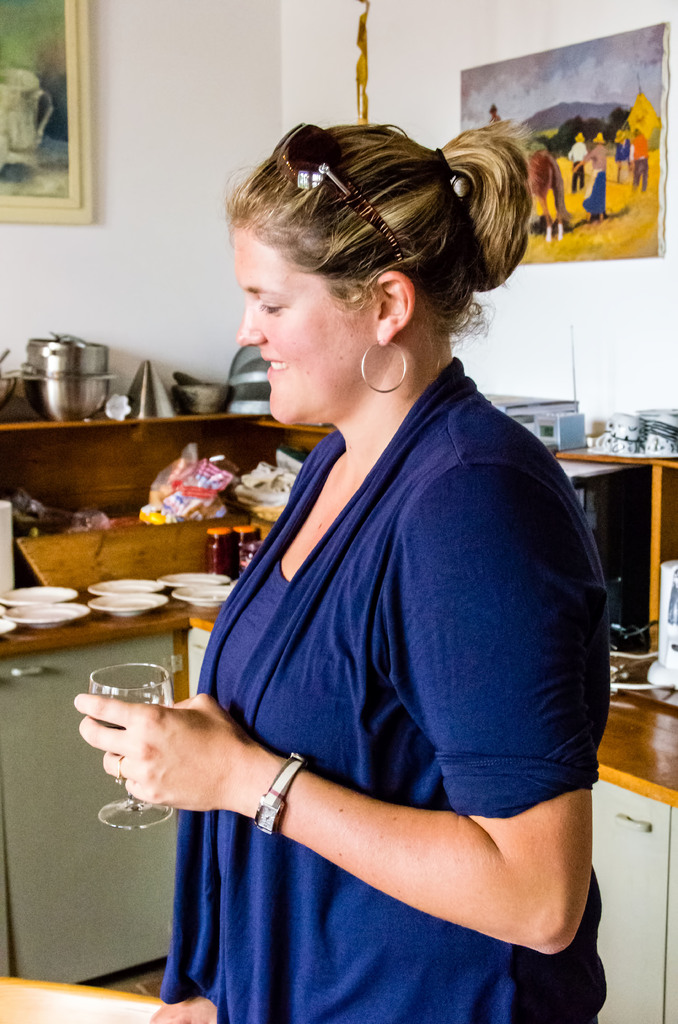Human_hand: (70, 694, 242, 813)
